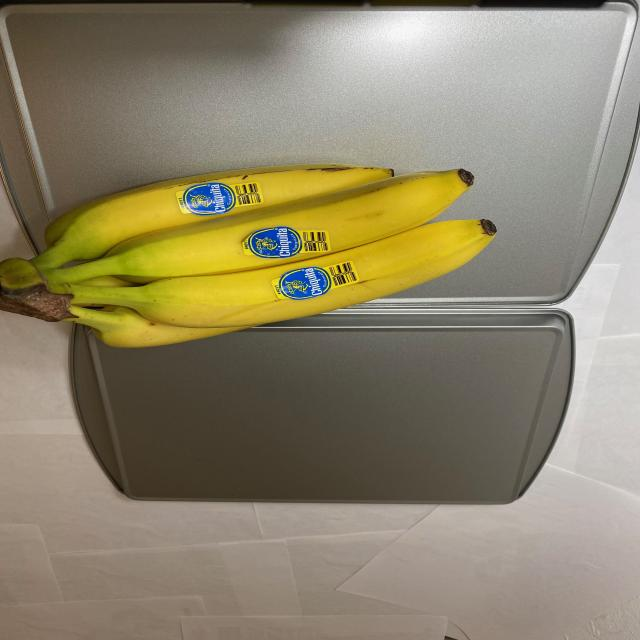Banana: (14, 140, 500, 352)
